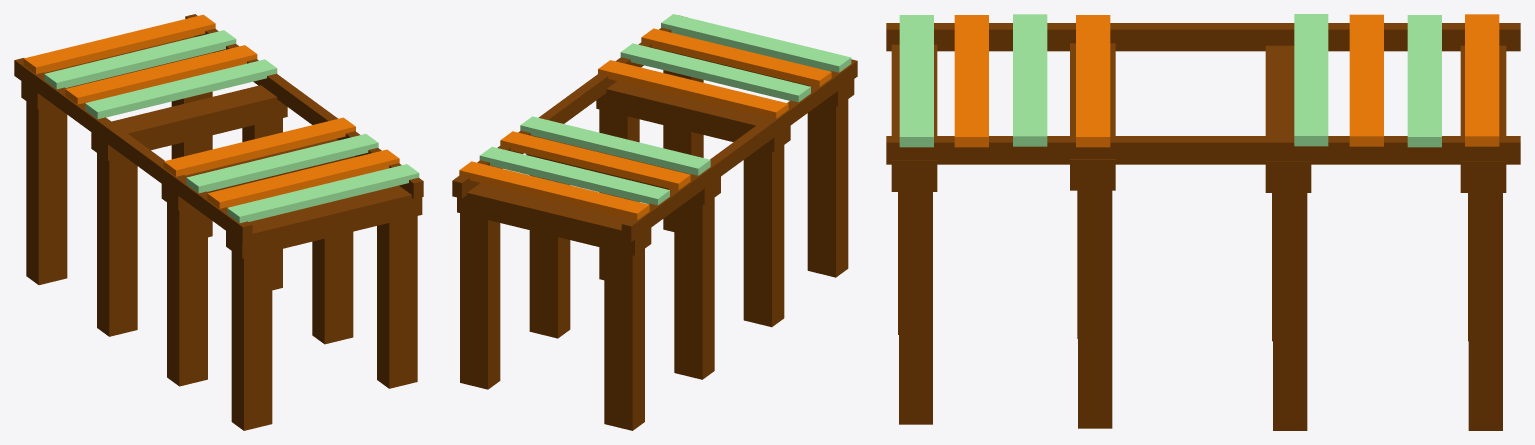
The model's file is bridge1LowPoly.fbx.
The picture shows the model from 3 angles, left to right: view 1: azimuth 30°, elevation 25°; view 2: azimuth 150°, elevation 25°; view 3: azimuth 270°, elevation 25°; orthographic projection. The views are drawn at different scales.
Visible parts, largest first — view 1: Duplicate12, Duplicate11, Duplicate10, Duplicate07, Duplicate09, Duplicate08, Duplicate05, Duplicate04, Box04, Duplicate14, Duplicate16, Duplicate15 (+6 smaller); view 2: Duplicate11, Duplicate12, Duplicate10, Duplicate07, Duplicate06, Duplicate04, Box04, Duplicate14, Duplicate16, Duplicate00, Duplicate13, Duplicate15 (+6 smaller); view 3: Box05, Duplicate12, Duplicate04, Duplicate10, Duplicate11, Duplicate09, Duplicate14, Duplicate16, Box04, Duplicate00, Duplicate13, Duplicate15 (+5 smaller).
Boxes of the visible parts, x1,y1,x2,y2 form: Duplicate12: [161, 138, 355, 386]; Duplicate11: [26, 91, 212, 284]; Duplicate10: [97, 118, 282, 336]; Duplicate07: [231, 251, 272, 430]; Duplicate09: [377, 216, 417, 388]; Duplicate08: [226, 185, 422, 258]; Duplicate05: [91, 85, 287, 160]; Duplicate04: [14, 58, 252, 242]; Box04: [85, 59, 277, 119]; Duplicate14: [23, 14, 215, 74]; Duplicate16: [186, 134, 378, 193]; Duplicate15: [163, 117, 355, 176]; Duplicate11: [460, 213, 644, 430]; Duplicate12: [596, 81, 790, 327]; Duplicate10: [529, 175, 714, 379]; Duplicate07: [807, 99, 848, 277]; Duplicate06: [457, 183, 651, 255]; Duplicate04: [621, 59, 857, 241]; Box04: [520, 116, 710, 175]; Duplicate14: [459, 161, 649, 220]; Duplicate16: [620, 43, 810, 102]; Duplicate00: [500, 131, 690, 190]; Duplicate13: [479, 146, 669, 205]; Duplicate15: [598, 60, 788, 118]; Box05: [886, 136, 1520, 164]; Duplicate12: [1070, 43, 1115, 428]; Duplicate04: [886, 23, 1520, 51]; Duplicate10: [1272, 193, 1307, 430]; Duplicate11: [1468, 193, 1502, 430]; Duplicate09: [899, 192, 932, 424]; Duplicate14: [1465, 14, 1499, 146]; Duplicate16: [1013, 14, 1047, 146]; Box04: [1294, 14, 1328, 146]; Duplicate00: [1349, 14, 1383, 146]; Duplicate13: [1407, 15, 1441, 147]; Duplicate15: [1076, 15, 1110, 147].
Bounding box in the file's own units: 47.99 × 55.56 × 105.
